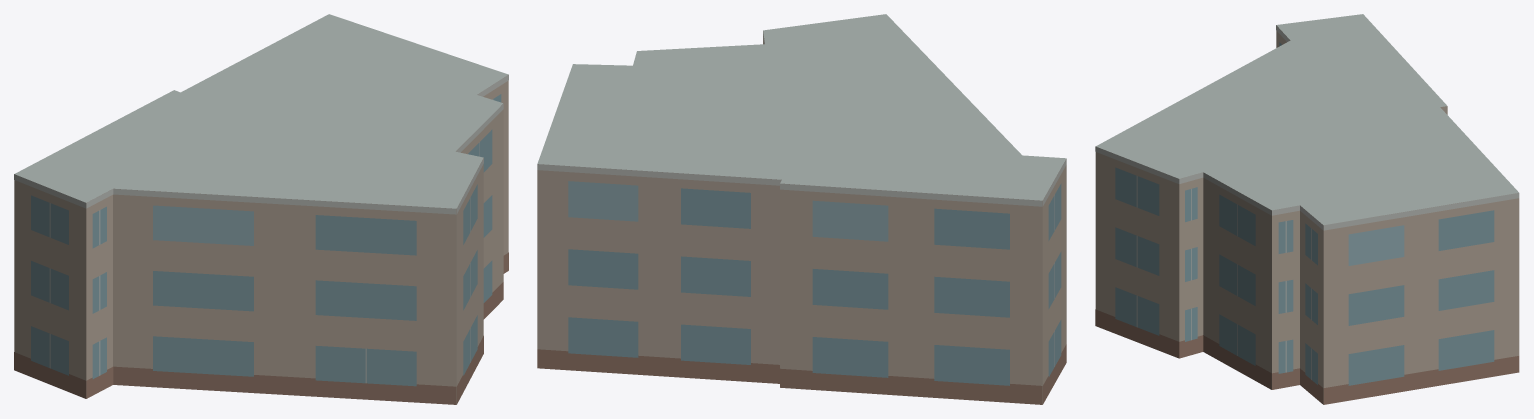
The model's file is survey-upis-32689868.glb.
3 renders of one model, left to right at view 1: azimuth 30°, elevation 25°; view 2: azimuth 150°, elevation 25°; view 3: azimuth 270°, elevation 25°, orthographic. The views are drawn at different scales.
Visible parts, largest first — view 1: survey-upis-32689868.tmp; view 2: survey-upis-32689868.tmp; view 3: survey-upis-32689868.tmp.
Part boxes in pixels (x1,y1,x2,y2): survey-upis-32689868.tmp: (14,14,508,404); survey-upis-32689868.tmp: (537,14,1066,404); survey-upis-32689868.tmp: (1095,14,1519,404).
Bounding box in the file's own units: 20.7 × 8.2 × 17.55.
